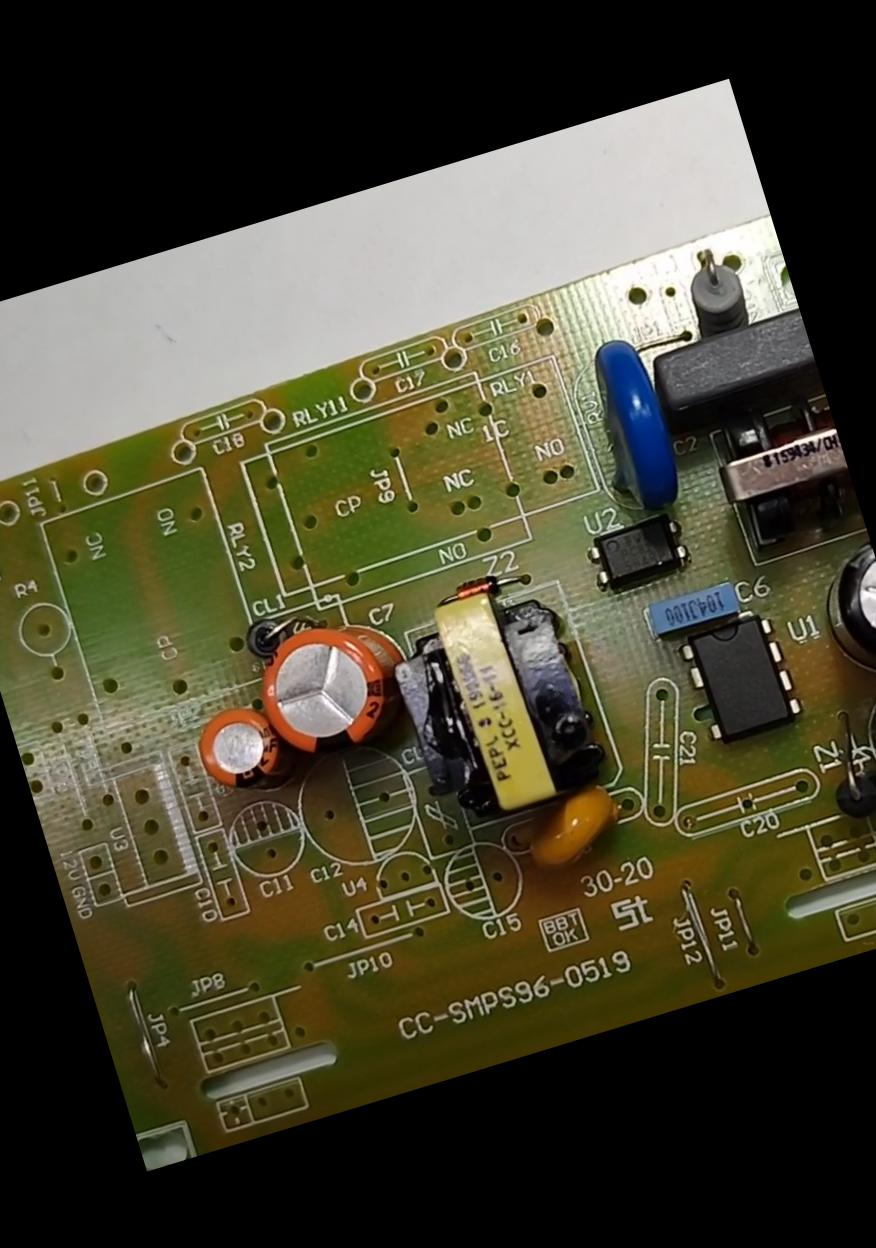Cap1: (238, 590, 438, 788)
Cap2: (176, 688, 298, 814)
Cap3: (806, 535, 875, 693)
Cap4: (848, 660, 875, 828)
MOSFET: (662, 583, 812, 756)
Mov: (561, 317, 699, 528)
Resistor: (669, 243, 762, 350)
Transformer: (369, 564, 634, 851), (690, 373, 866, 570)
